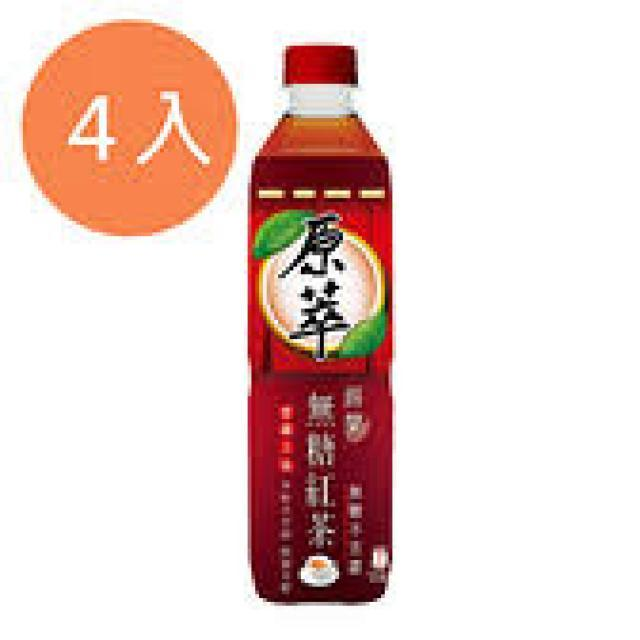YuanTsui_BlackTea: (234, 33, 408, 611)
